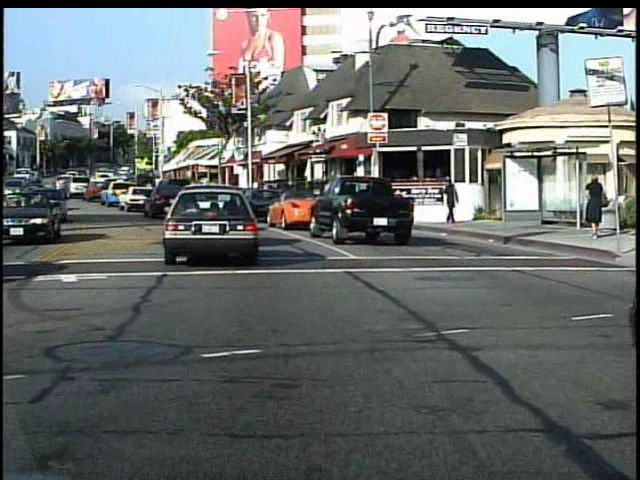person: (581, 169, 610, 242), (441, 181, 457, 232)
